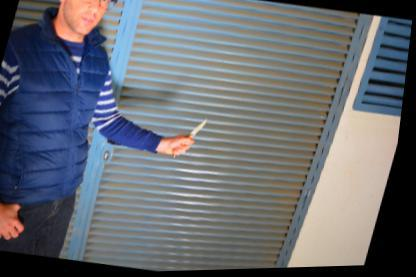knife: (174, 111, 212, 162)
